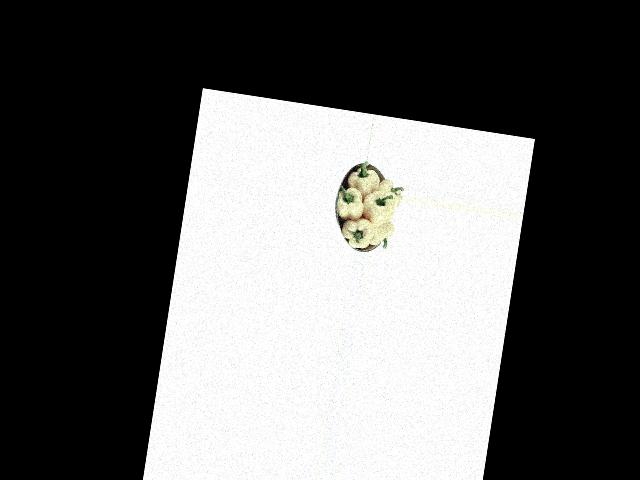bell_pepper: (373, 174, 405, 207)
